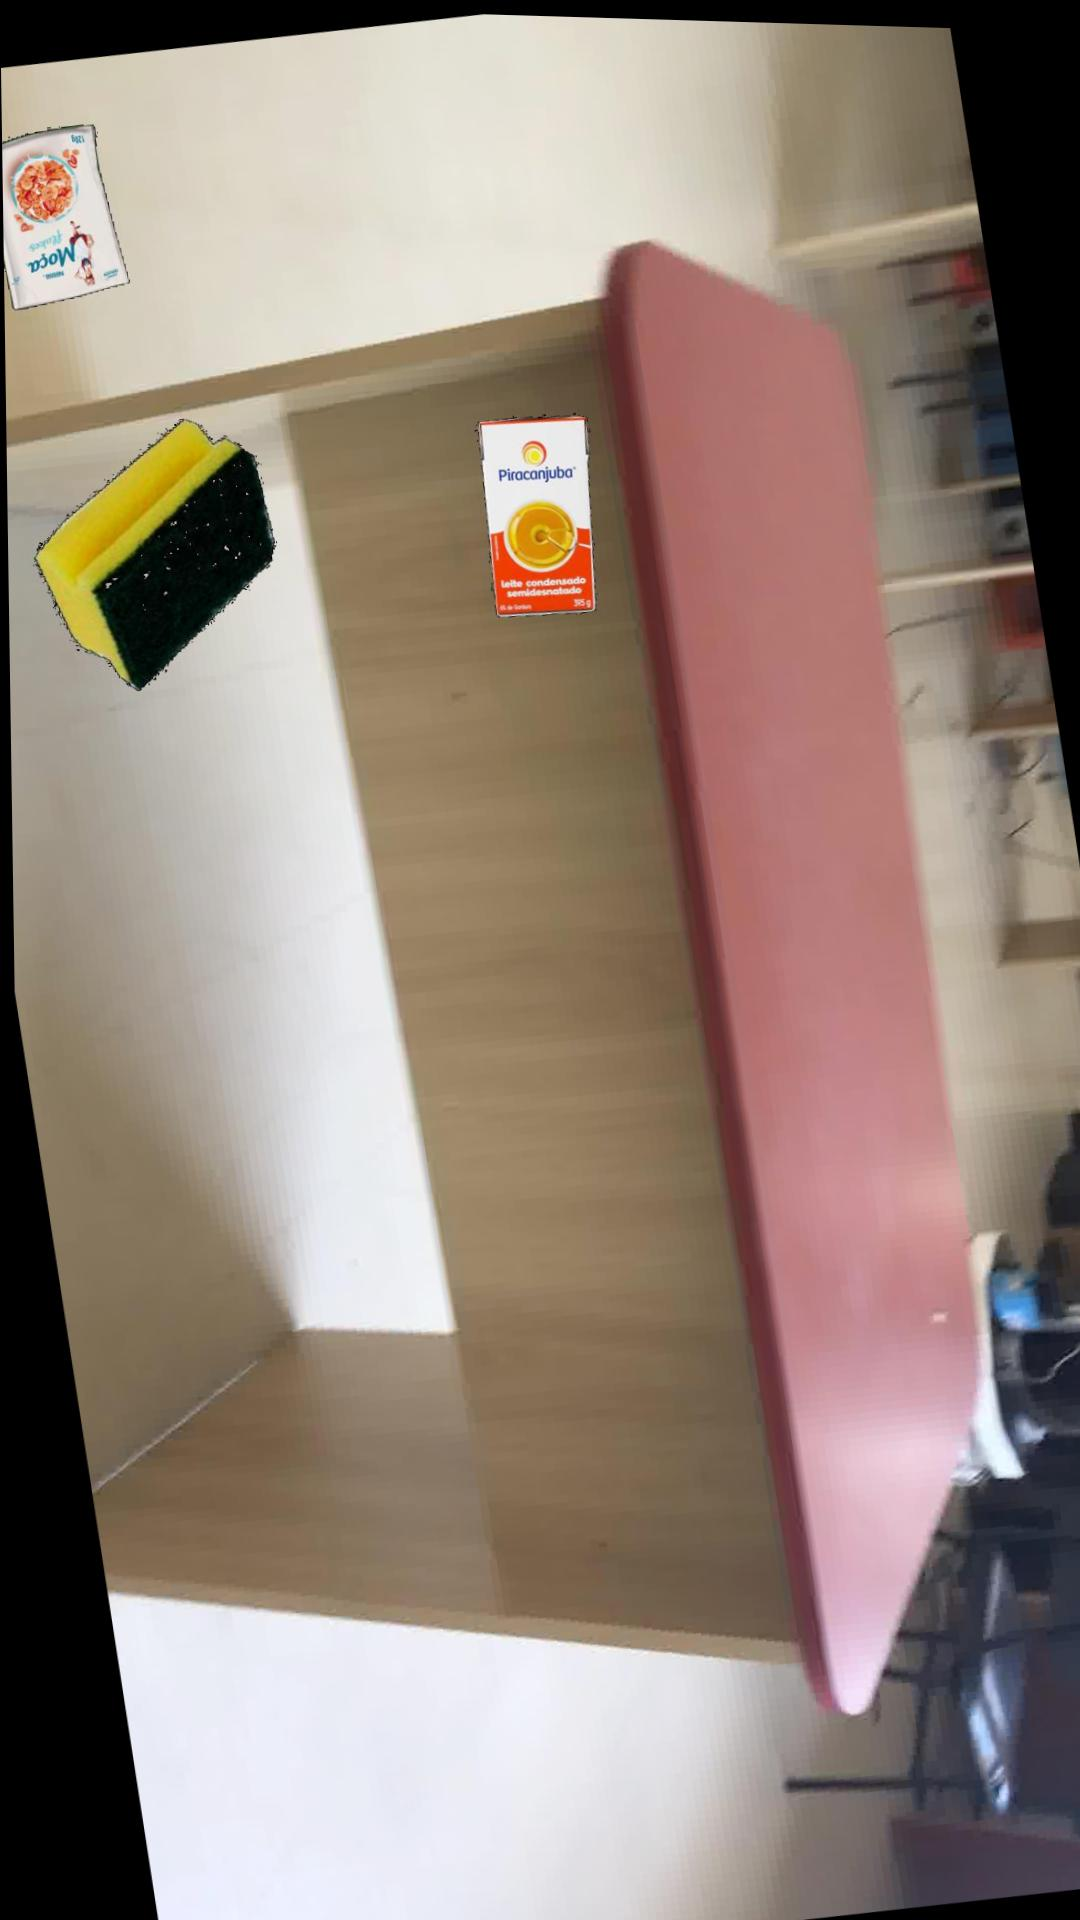corn flakes: (2, 124, 127, 310)
sponge: (30, 418, 272, 691)
